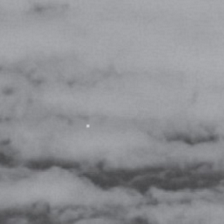Target: (84, 123, 91, 129)
